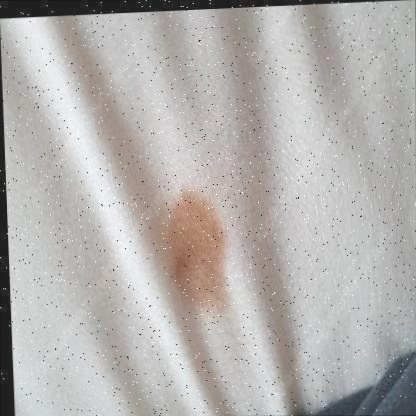kimchi: (154, 194, 237, 315)
